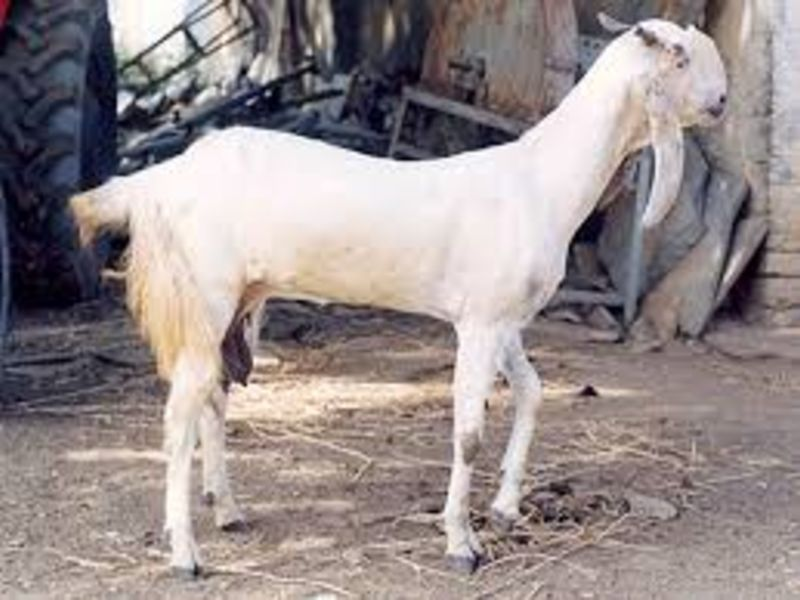goat: (86, 17, 729, 584)
